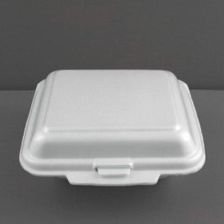foam_box: (13, 59, 210, 192)
